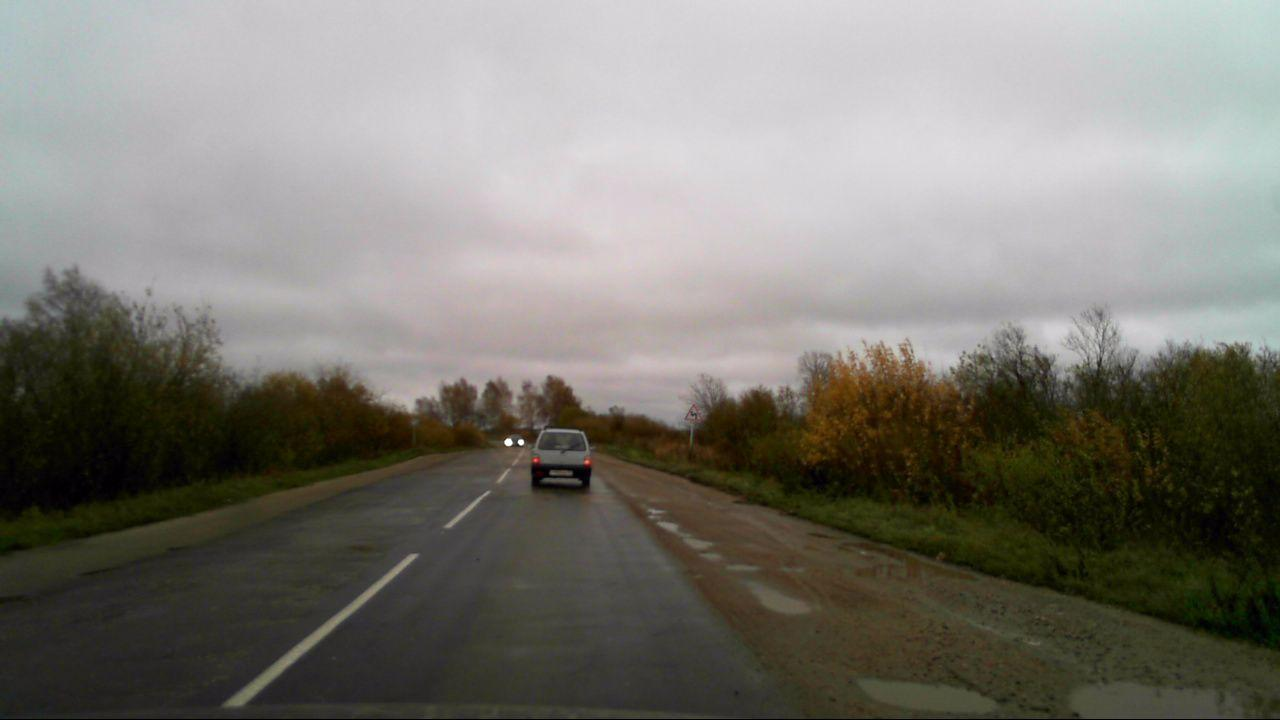pothole: (858, 674, 994, 706), (748, 578, 803, 611), (658, 517, 712, 549)
road_sign: (682, 401, 706, 422)
